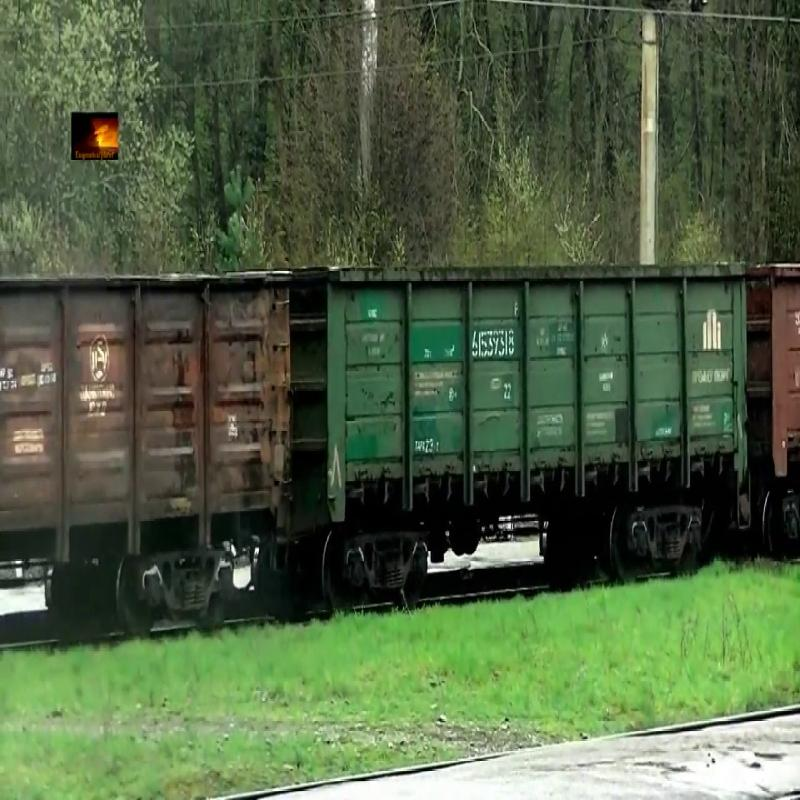train: (296, 262, 748, 532), (4, 268, 295, 567), (748, 264, 800, 484)
